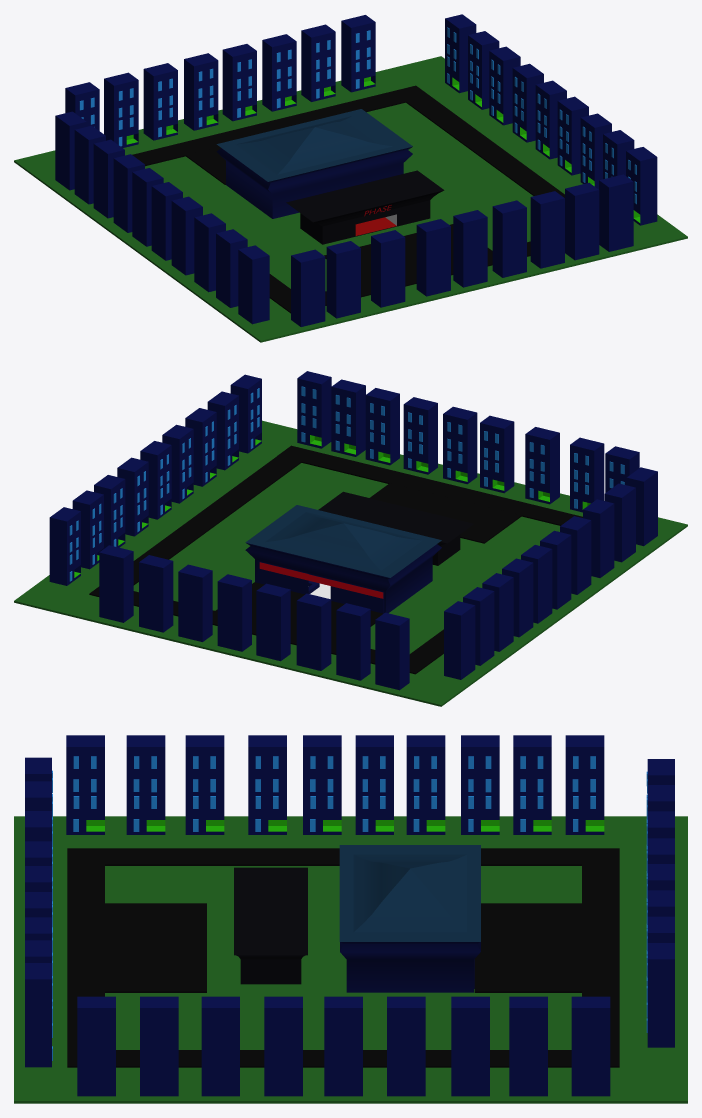
The model's file is citystart.fbx.
3 views of the same model, one above another, from view 1: azimuth 30°, elevation 25°; view 2: azimuth 150°, elevation 25°; view 3: azimuth 270°, elevation 25° (orthographic). The views are drawn at different scales.
Visible parts, largest first — view 1: Base, Supermarket, road with intersections, bank, Building 3, Building 2, Building 27, Building 1, Building 4, Building 5, Building 25, Building 26 (+30 smaller); view 2: Base, Supermarket, road with intersections, bank, parking lot.001, Building 6, Building 22, Building 1, Building 2, Building 27, Building 3, Building 4 (+30 smaller); view 3: Base, road with intersections, Supermarket, parking lot, parking lot.001, bank, Building 36, Building 9, Building 12, Building 16, Building 17, Building 28 (+30 smaller).
Part boxes in pixels (x1=…): Base: x1=14, y1=56, x2=687, y2=342; Supermarket: x1=216, y1=109, x2=412, y2=218; road with intersections: x1=132, y1=85, x2=564, y2=313; bank: x1=286, y1=170, x2=444, y2=244; Building 3: x1=262, y1=34, x2=296, y2=111; Building 2: x1=301, y1=24, x2=335, y2=101; Building 27: x1=599, y1=174, x2=633, y2=251; Building 1: x1=341, y1=15, x2=375, y2=92; Building 4: x1=222, y1=44, x2=256, y2=121; Building 5: x1=184, y1=53, x2=218, y2=130; Building 25: x1=530, y1=191, x2=564, y2=268; Building 26: x1=565, y1=182, x2=599, y2=260; Base: x1=14, y1=420, x2=687, y2=706; Supermarket: x1=245, y1=505, x2=441, y2=613; road with intersections: x1=89, y1=445, x2=582, y2=674; bank: x1=318, y1=491, x2=474, y2=565; parking lot.001: x1=370, y1=483, x2=521, y2=543; Building 6: x1=296, y1=593, x2=331, y2=670; Building 22: x1=480, y1=415, x2=514, y2=493; Building 1: x1=99, y1=545, x2=133, y2=622; Building 2: x1=139, y1=555, x2=173, y2=632; Building 27: x1=297, y1=371, x2=331, y2=448; Building 3: x1=178, y1=564, x2=212, y2=641; Building 4: x1=217, y1=574, x2=251, y2=651; Base: x1=14, y1=816, x2=687, y2=1103; road with intersections: x1=67, y1=848, x2=619, y2=1067; Supermarket: x1=339, y1=845, x2=480, y2=992; parking lot: x1=474, y1=903, x2=581, y2=992; parking lot.001: x1=105, y1=903, x2=206, y2=992; bank: x1=234, y1=867, x2=307, y2=984; Building 36: x1=571, y1=996, x2=610, y2=1096; Building 9: x1=565, y1=735, x2=604, y2=834; Building 12: x1=406, y1=735, x2=445, y2=834; Building 16: x1=185, y1=735, x2=224, y2=834; Building 17: x1=126, y1=735, x2=165, y2=834; Building 28: x1=77, y1=996, x2=115, y2=1096.
Bounding box in the file's own units: 50000 × 7427 × 50000.
